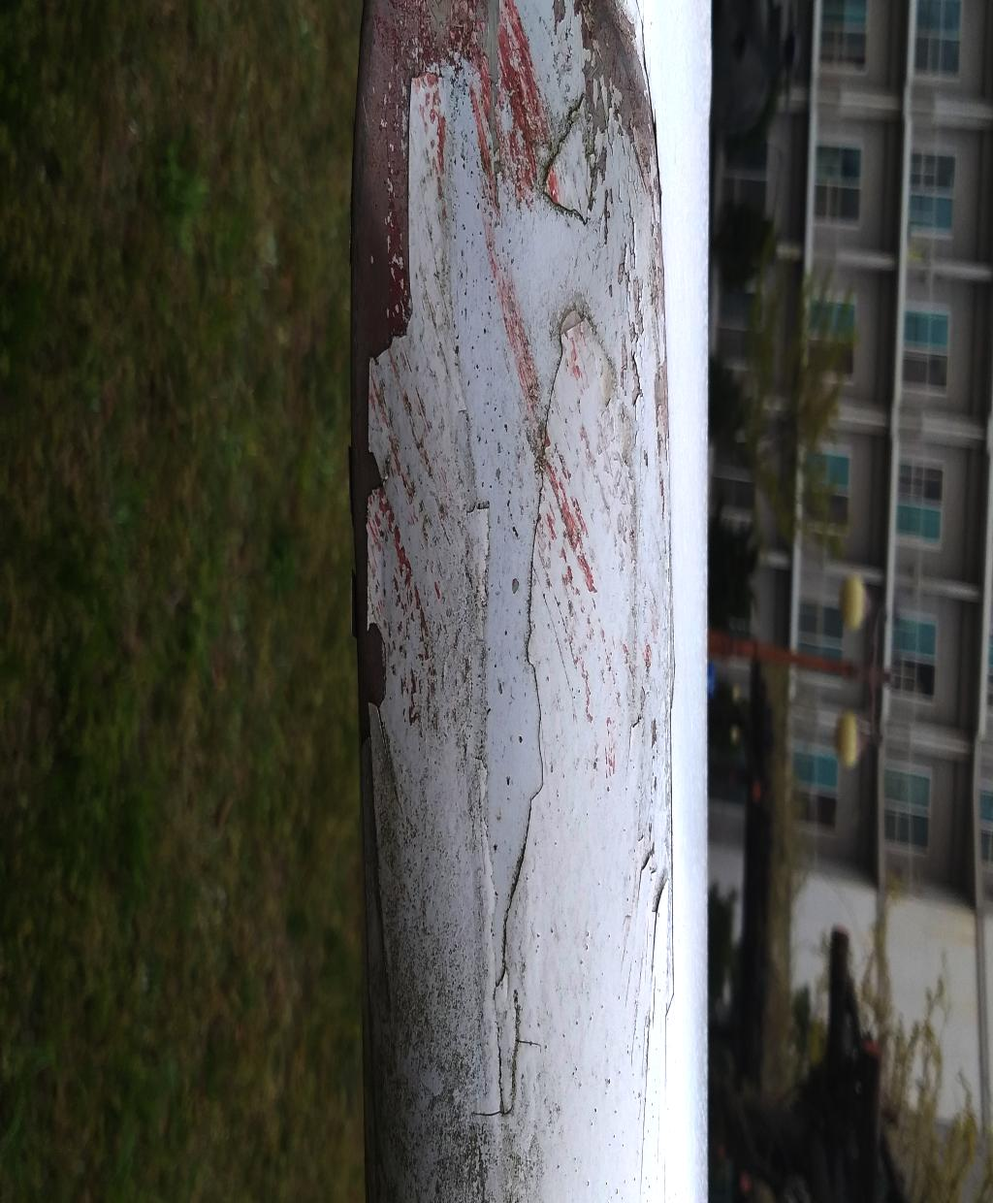corrosion: (455, 758, 858, 1203)
